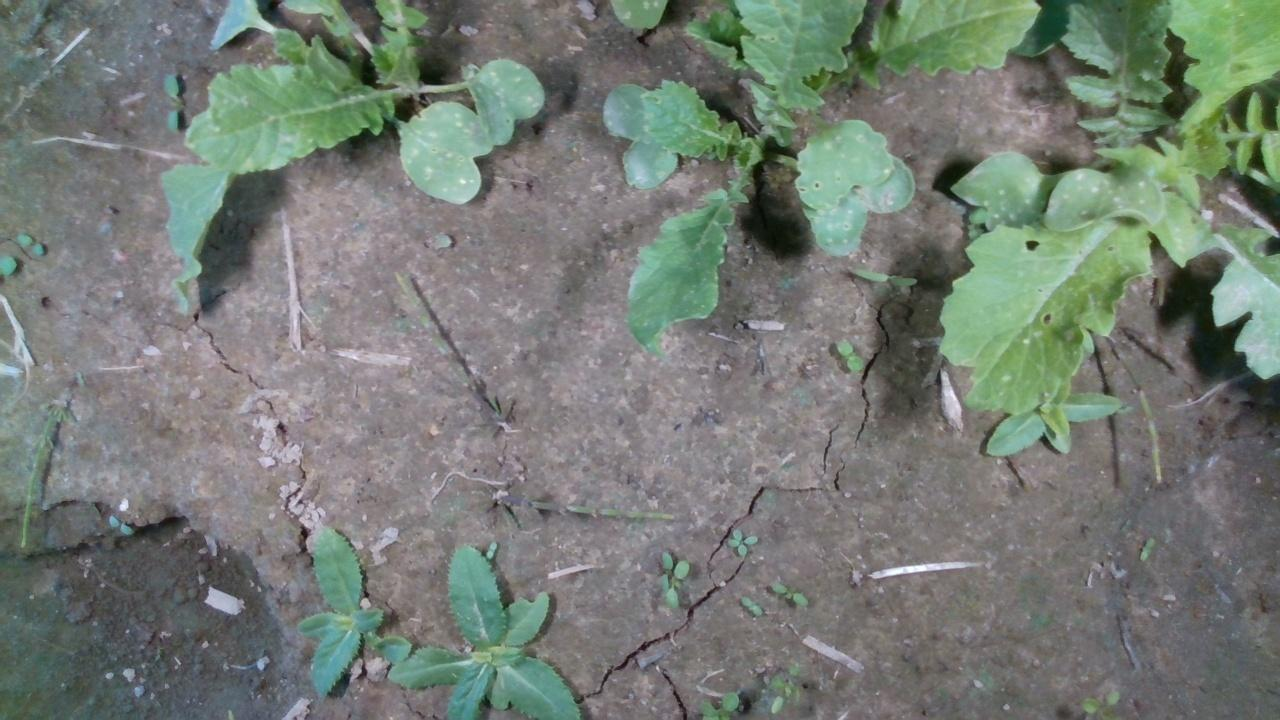weed: (161, 71, 180, 136), (767, 578, 808, 607), (833, 337, 864, 371), (724, 528, 758, 556), (107, 514, 133, 536), (739, 594, 762, 616), (1137, 536, 1154, 562)
